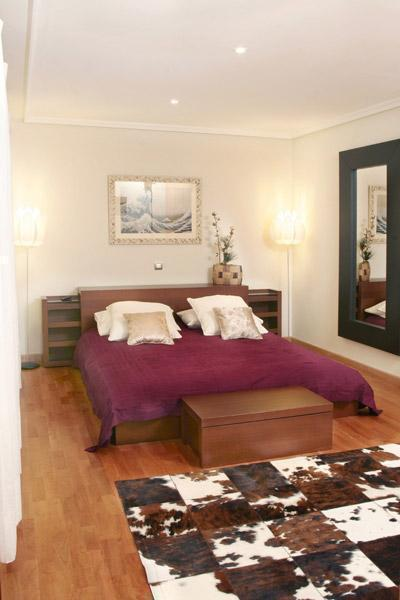Armario: (177, 386, 339, 460)
Cama: (68, 282, 372, 445)
